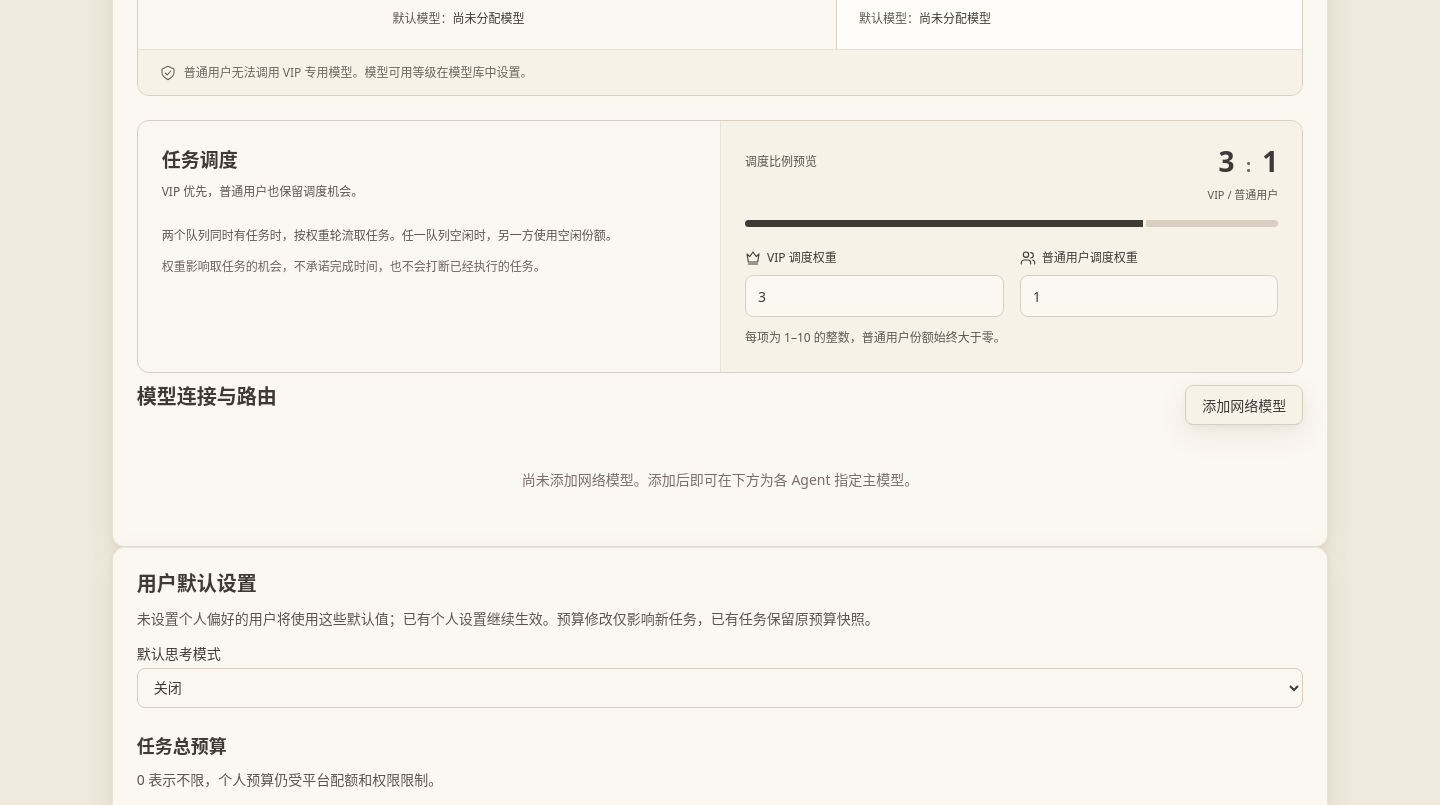
Test case: fetches the model list into the datalist and tests connectivity
The image size is (1440, 805).
(page scrolled)
Expected: the text "尚未添加网络模型。添加后即可在下方为各 Agent 指定主模型。" is shown, [522, 470, 918, 489]
Click the button "添加网络模型". click: (1244, 405)
box: [1185, 385, 1303, 425]
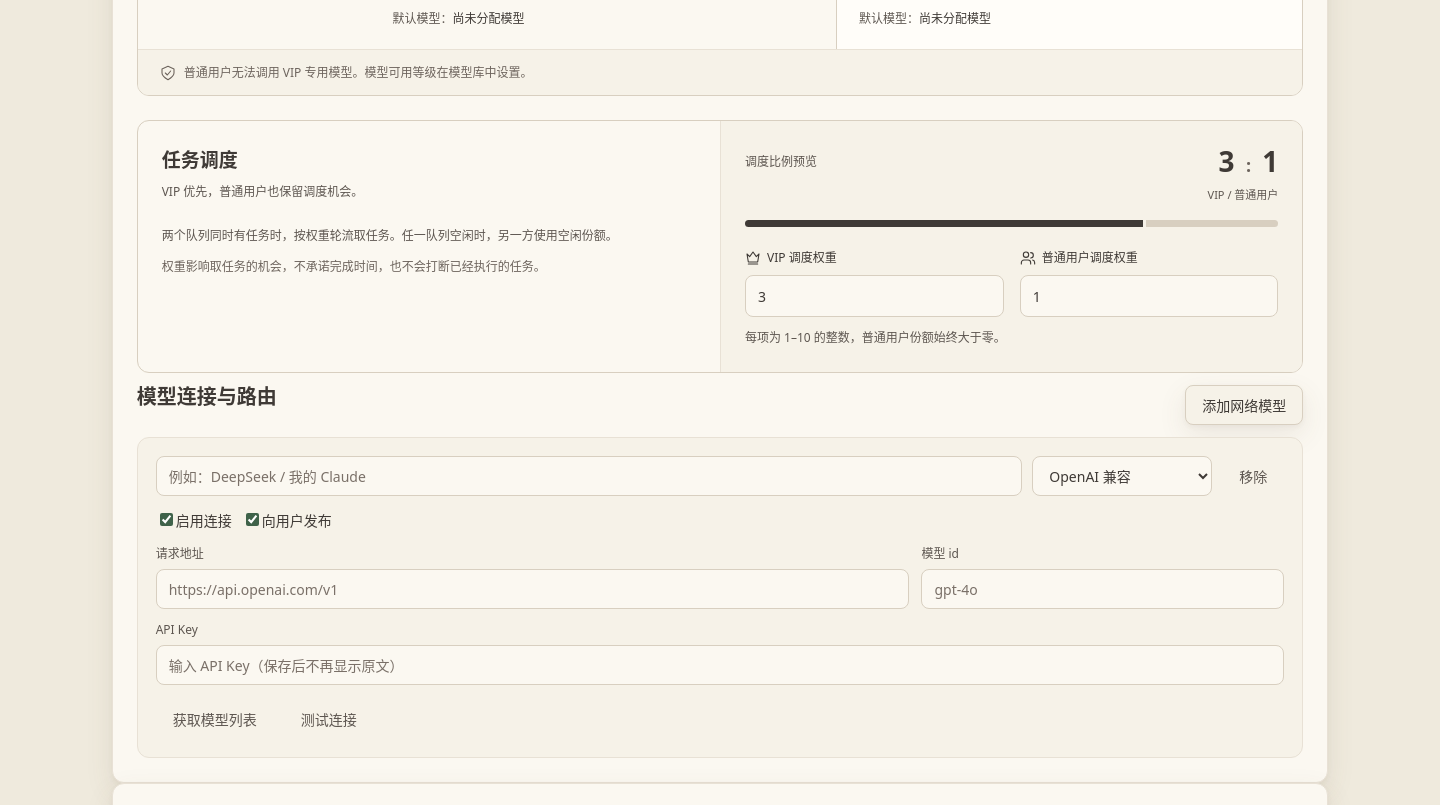
Type "https://models.example.com/v1" into the field labelled "请求地址". click: (533, 589)
box: [156, 569, 909, 609]
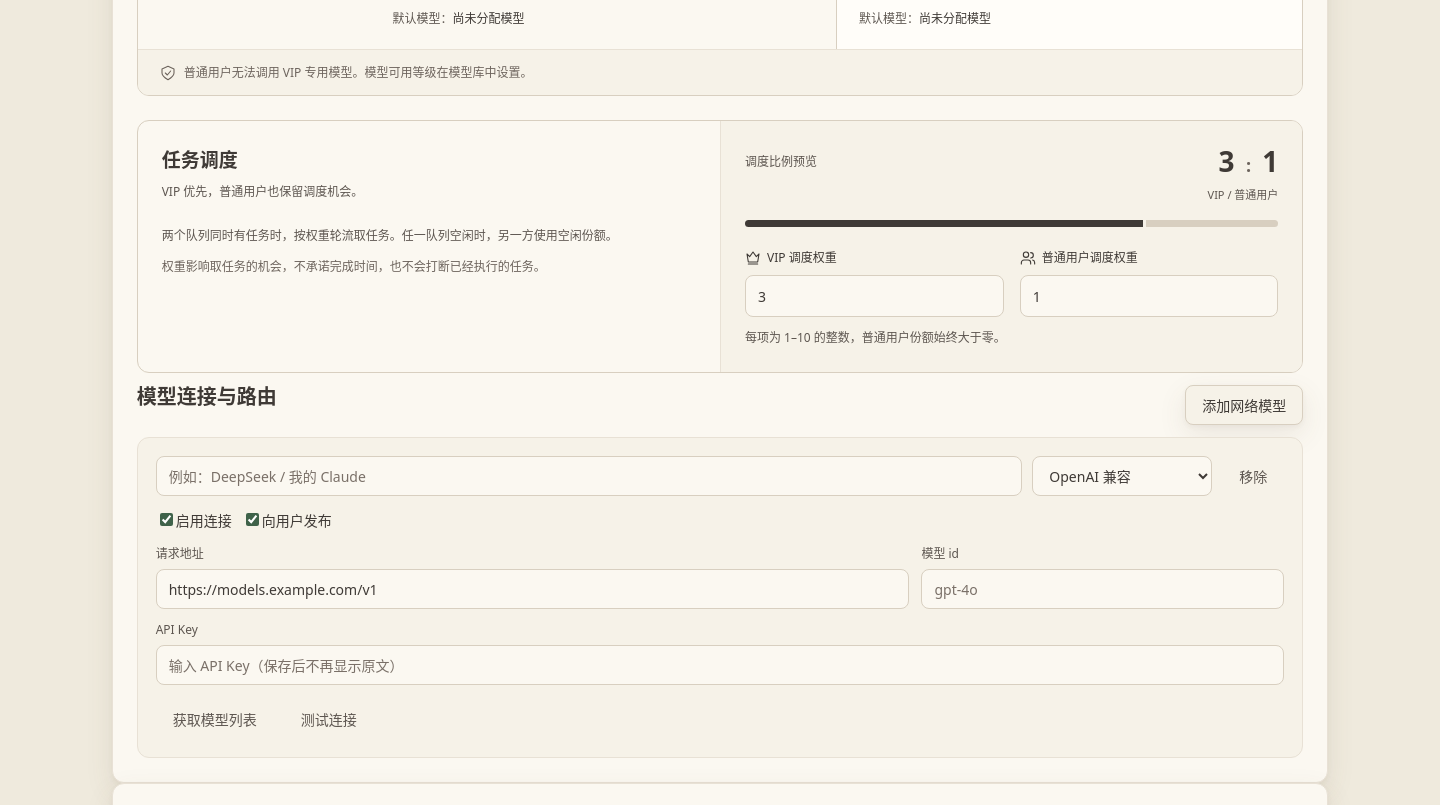
Type "novel-pro" into the field labelled "模型 id". click: (1103, 589)
box: [921, 569, 1284, 609]
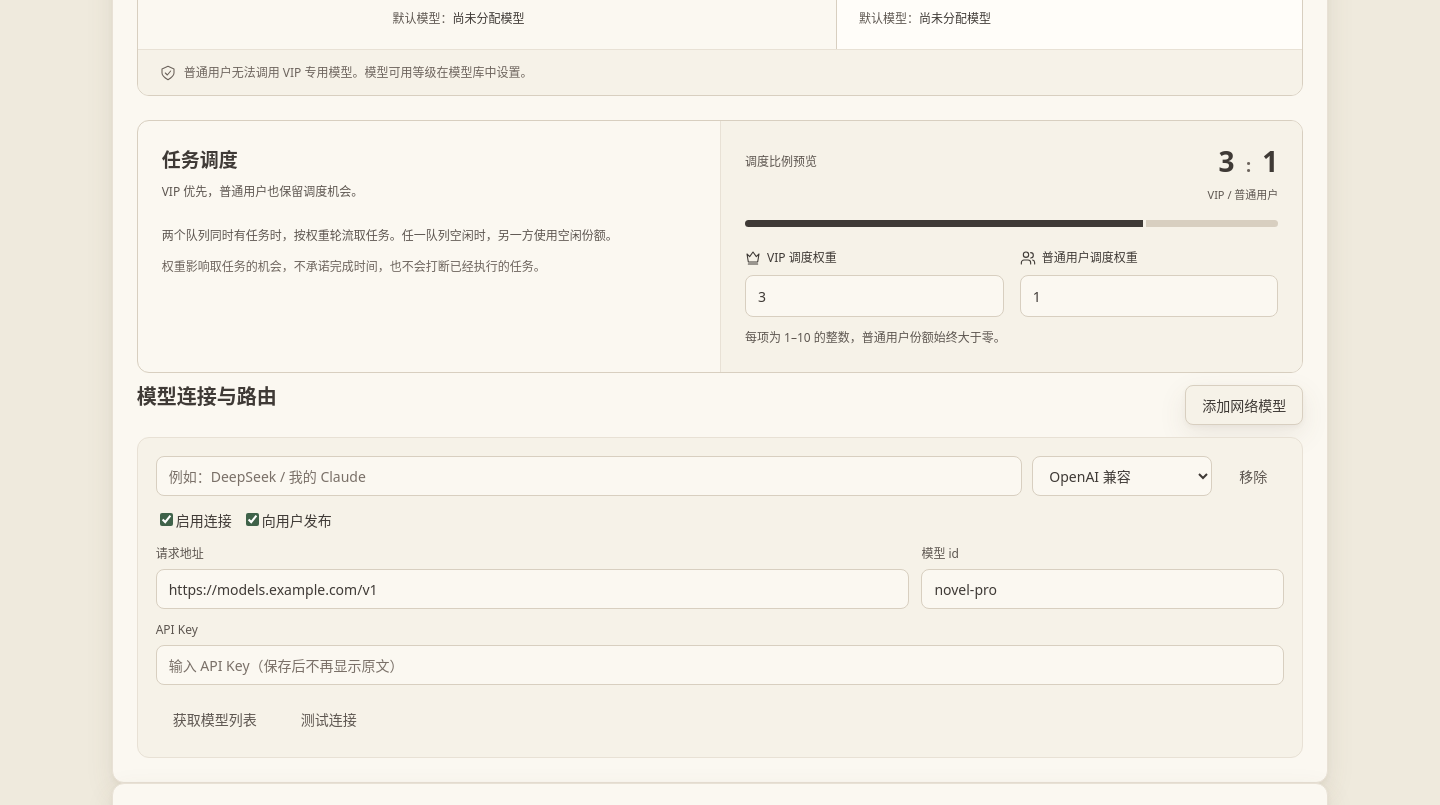
Type "secret-key" into the password field labelled "API Key". click: (720, 665)
box: [156, 645, 1284, 685]
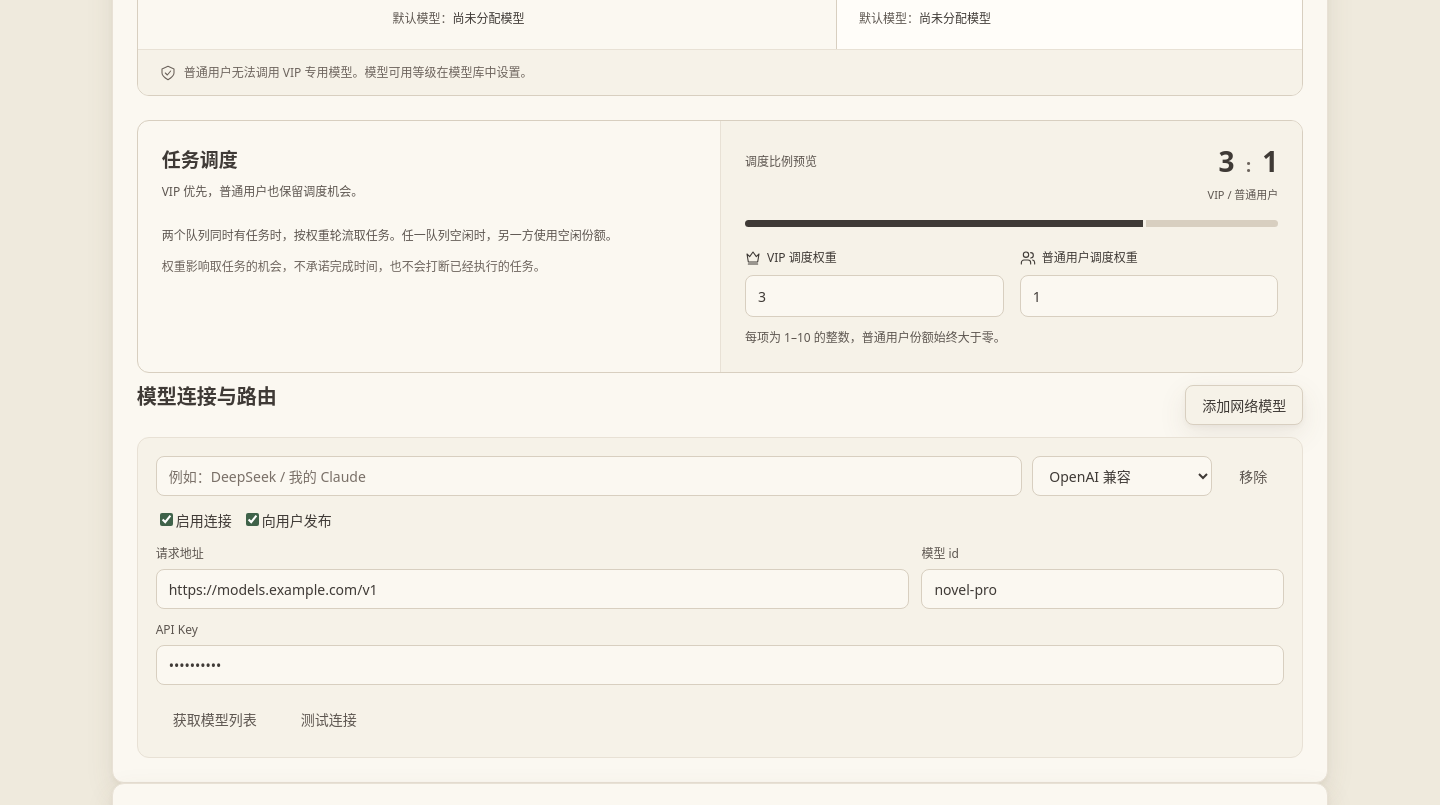
Click the button "获取模型列表". click: (215, 719)
box: [156, 699, 274, 739]
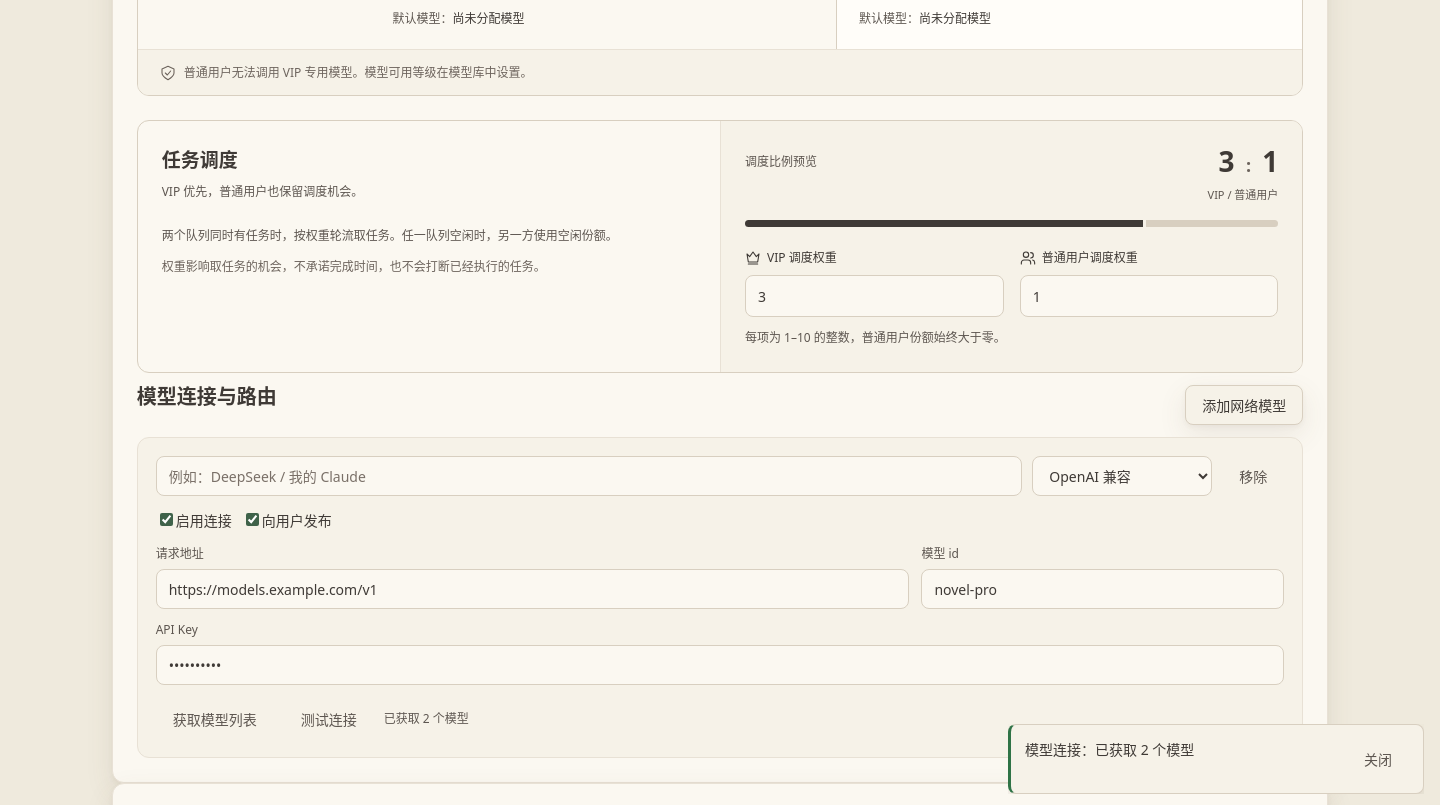
Expected: the text "已获取 2 个模型" is shown, [384, 710, 469, 728]
Click the button "测试连接". click: (329, 719)
box: [284, 699, 374, 739]
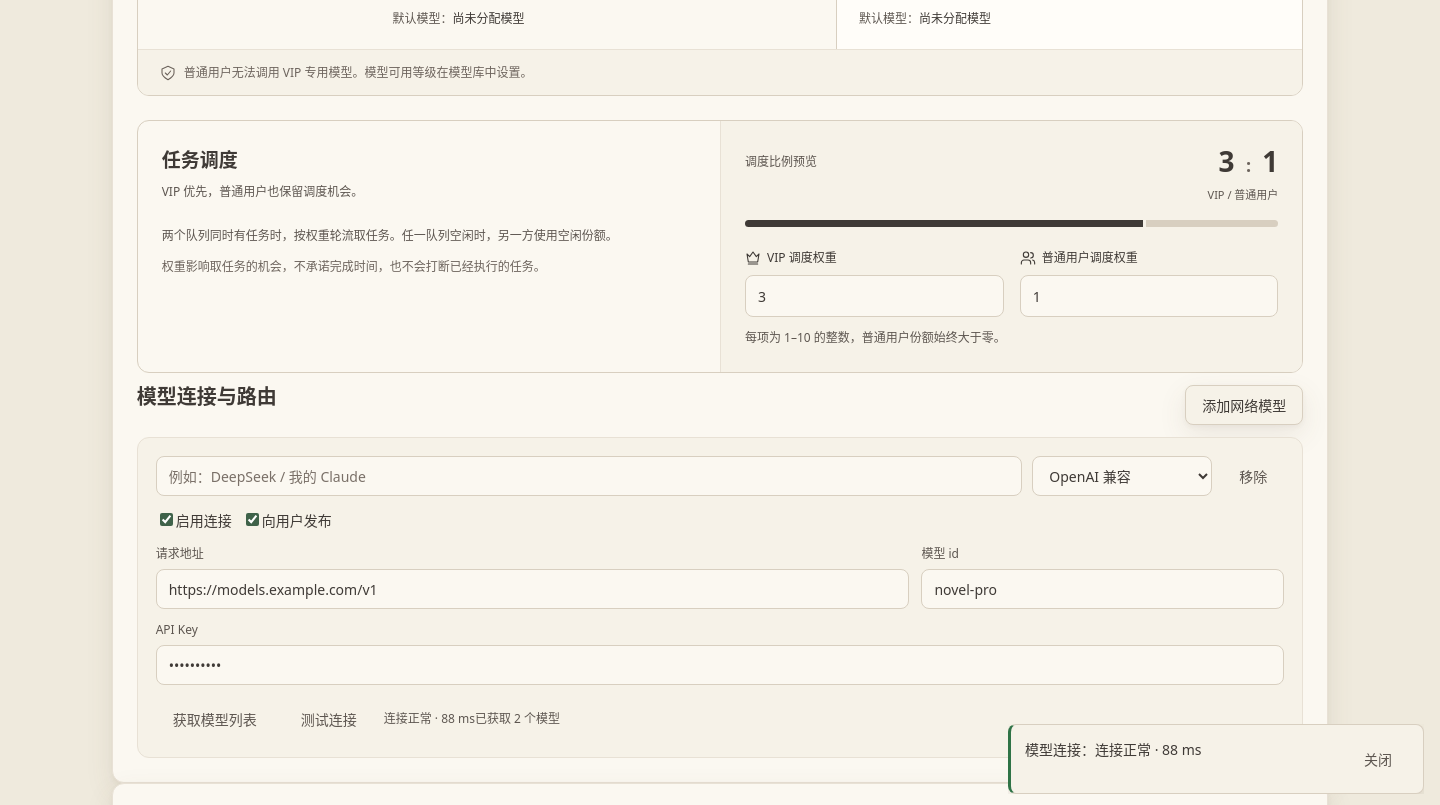
Expected: the message shows "连接正常 · 88 ms", [1025, 740, 1202, 759]
